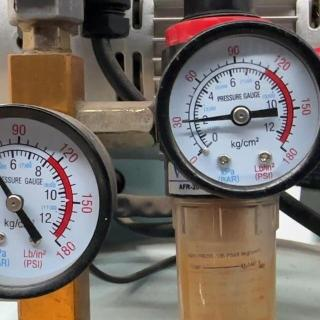gauge: (155, 12, 319, 202), (0, 101, 118, 307), (230, 105, 252, 126), (190, 143, 210, 165), (4, 193, 24, 213), (275, 140, 293, 160), (49, 232, 65, 252), (178, 117, 188, 125)
